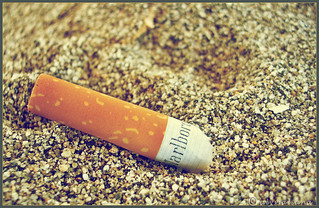cigarette: (27, 72, 215, 175)
